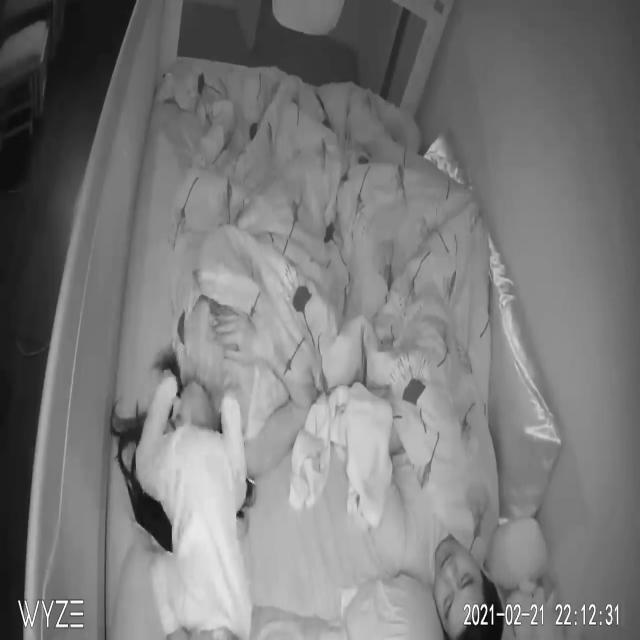baby: (136, 370, 249, 639)
